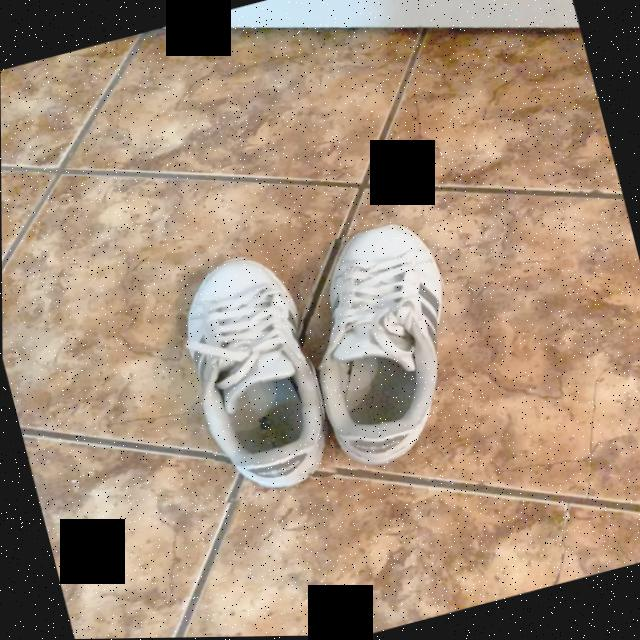shoe: (184, 260, 324, 489), (321, 226, 446, 470)
